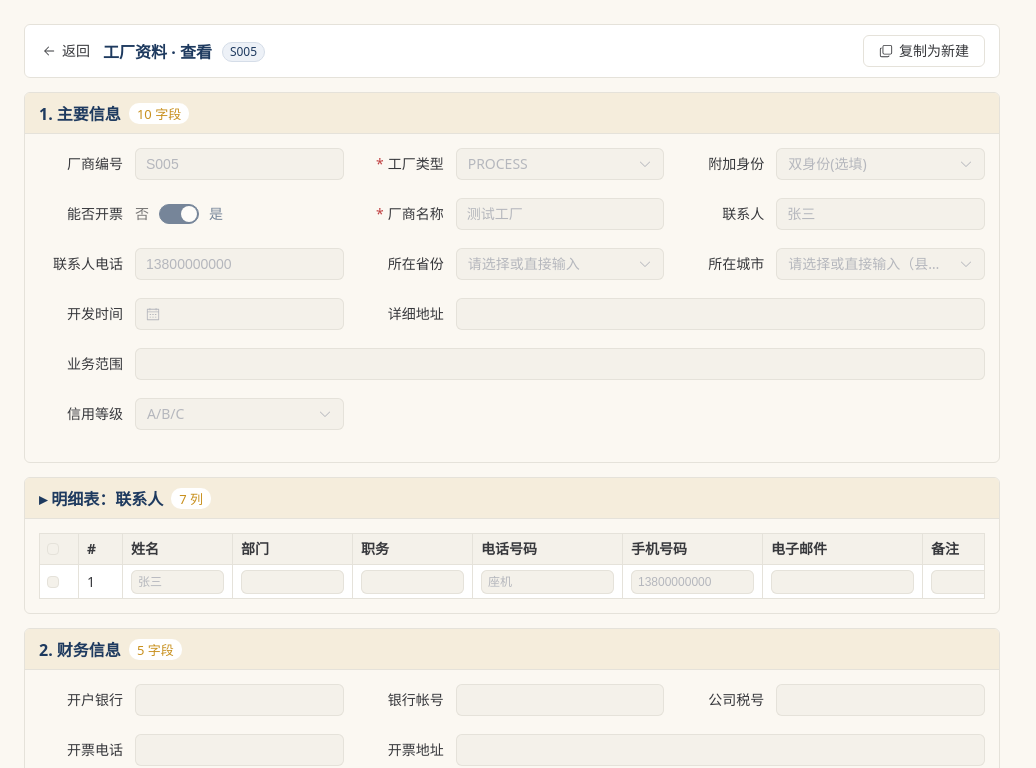
Test: FactoryEditView › 查看页点「复制为新建」跳转 /new?copy_from= 且清空编号显示
Click the button "复制为新建" at (924, 51), box top-left (863, 35), bottom-right (985, 67)
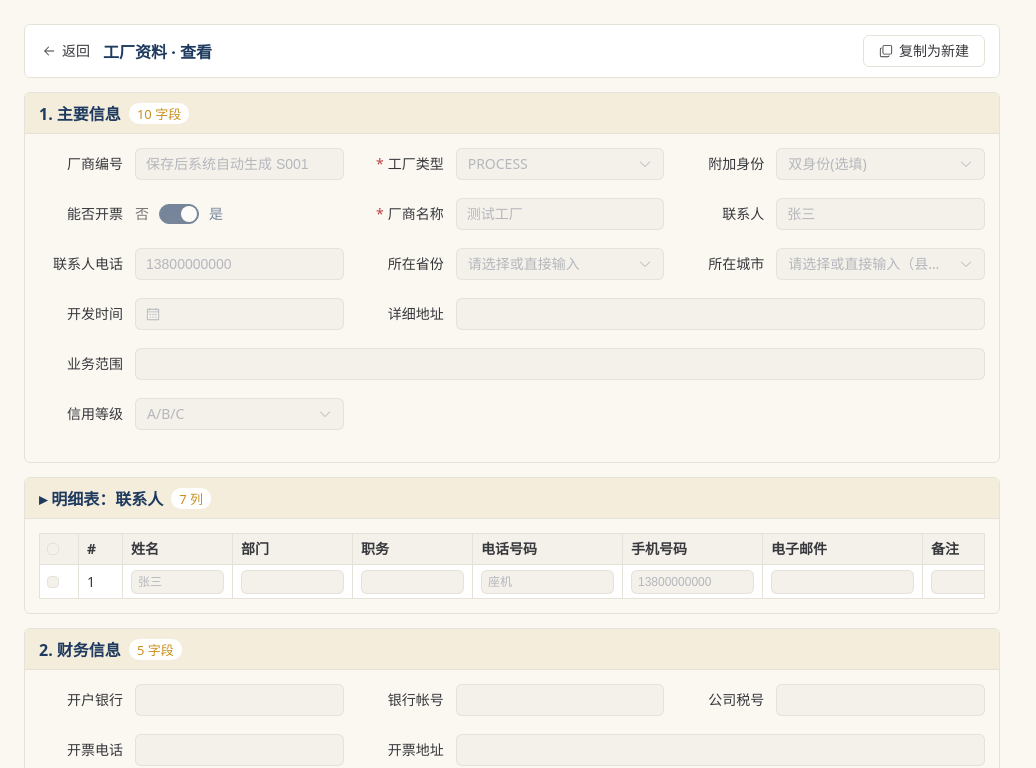
Expected: the text "S005" is gone
